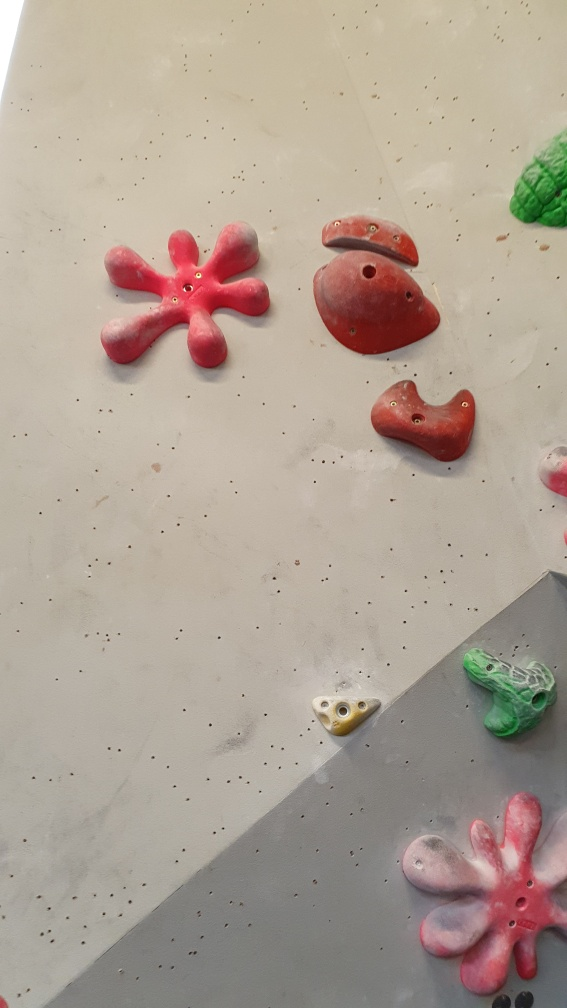Octopus Pinch: (404, 794, 567, 996), (94, 220, 271, 371)
